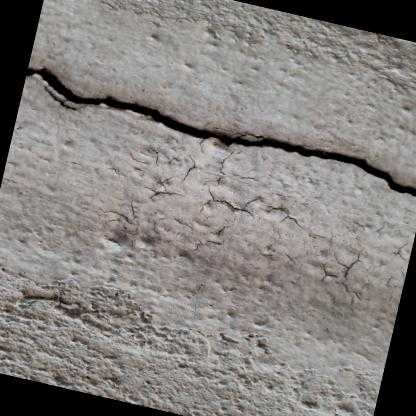crack: (25, 66, 416, 198), (42, 86, 76, 112)
